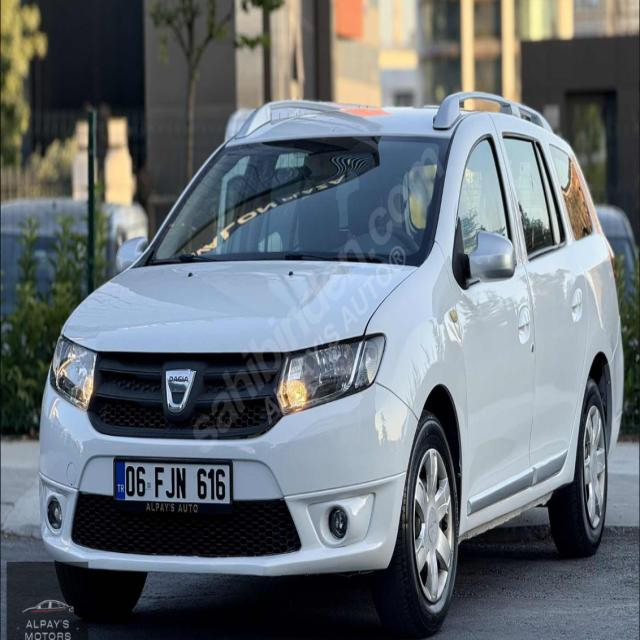dacia: (162, 363, 198, 417)
